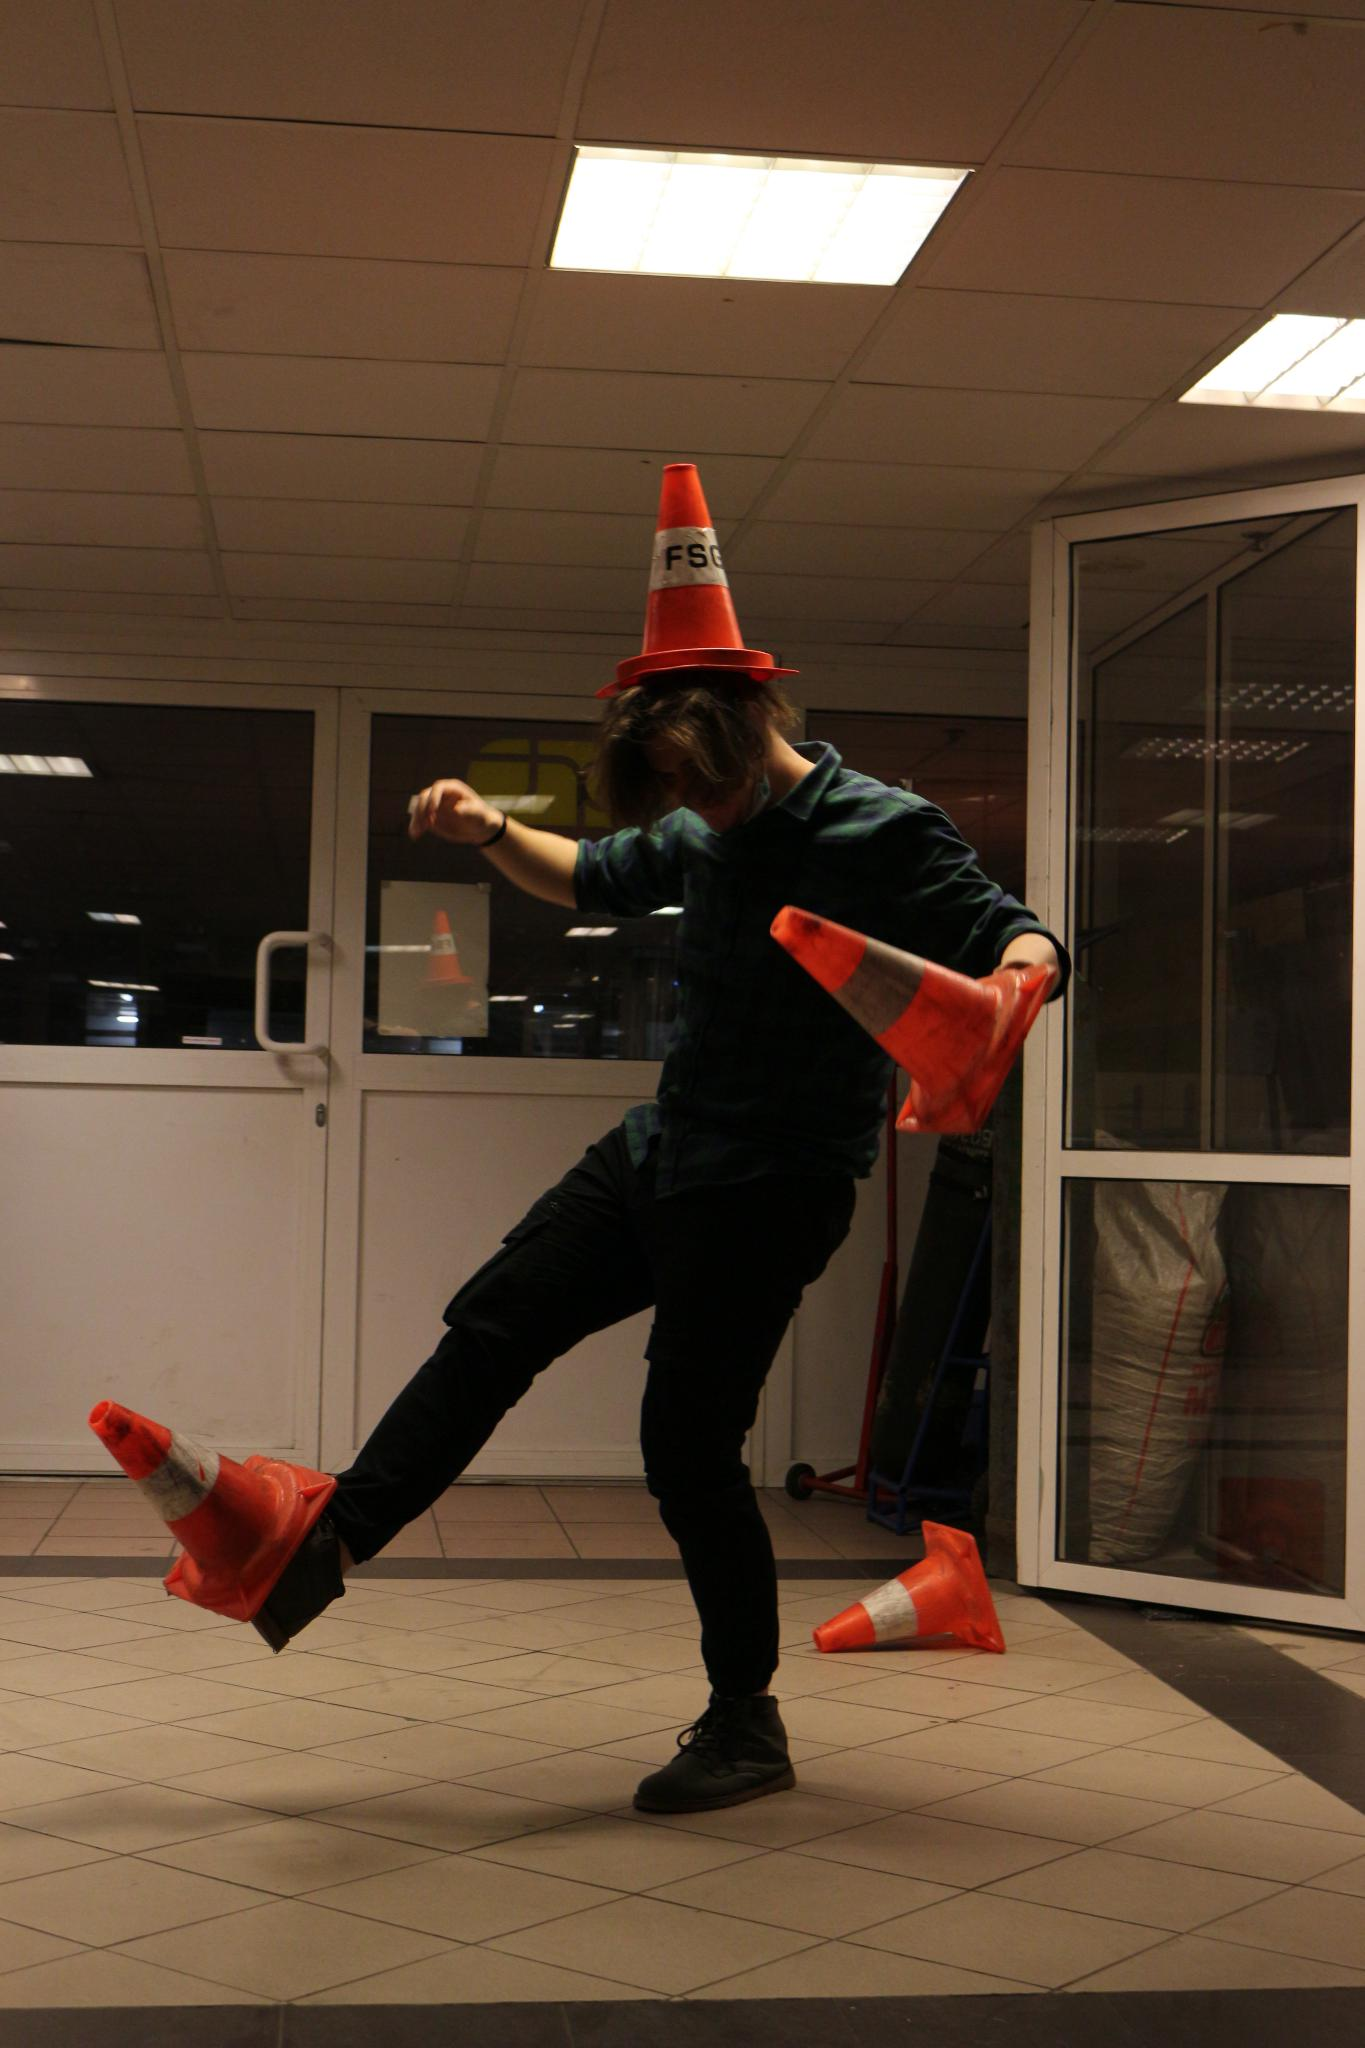Orange_Cone: (763, 882, 1028, 1125), (75, 1392, 326, 1594), (603, 454, 788, 696), (794, 1530, 1009, 1657)
